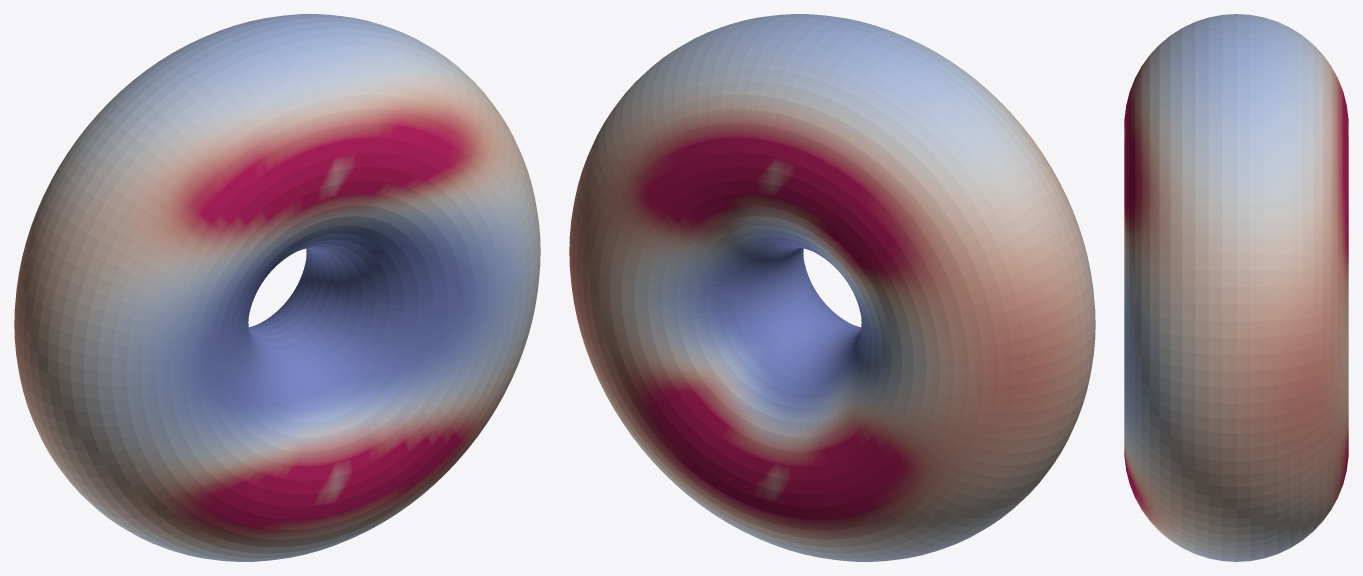
The picture shows the model from 3 angles, left to right: view 1: azimuth 30°, elevation 25°; view 2: azimuth 150°, elevation 25°; view 3: azimuth 270°, elevation 25°; orthographic projection. The views are drawn at different scales.
Parts seen in each view (by area): view 1: world; view 2: world; view 3: world.
Boxes of the visible parts, x1,y1,x2,y2 form: world: (14, 14, 540, 561); world: (569, 14, 1095, 561); world: (1124, 14, 1348, 561).
Bounding box in the file's own units: 19.2 × 19.2 × 7.85.
